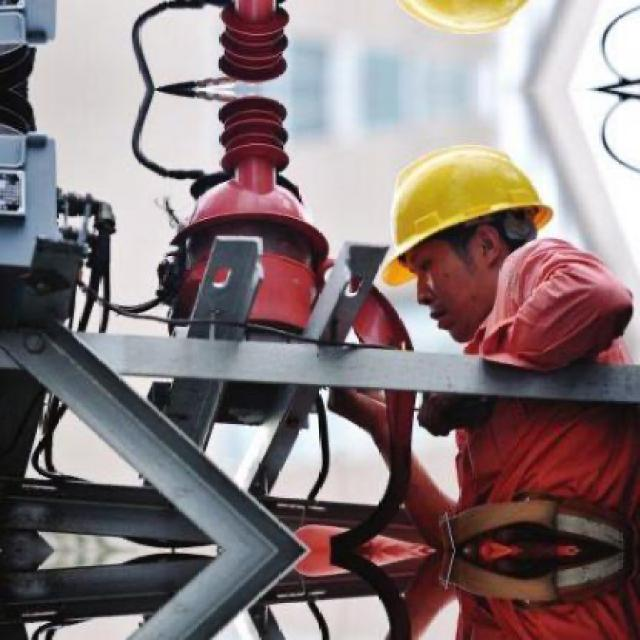helmet: (362, 128, 564, 336), (361, 0, 565, 52)
